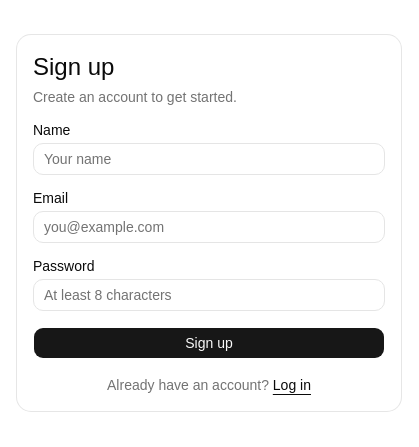
Scenario: SignupPage › displays server errors from the mutation
This screenshot has width=419, height=447.
In the field with test id "signup-name": point(209, 159) [33,143,385,175], type "Test User"
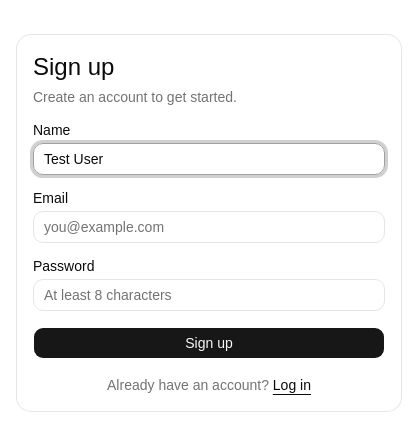
In the field with test id "signup-email": point(209, 227) [33,211,385,243], type "taken@example.com"
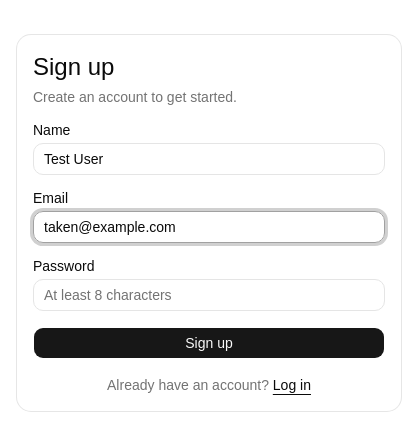
In the password field with test id "signup-password": point(209, 295) [33,279,385,311], type "password123"
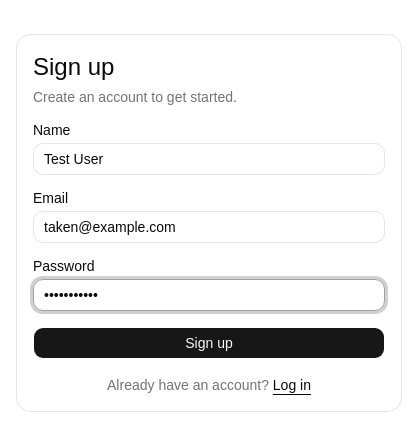
Click the button with test id "signup-submit": point(209, 343) [33,327,385,359]
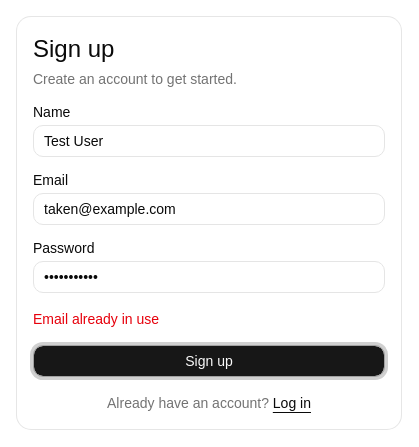
Expected: the text with test id "signup-error" reads "Email already in use", [33,311,159,327]
